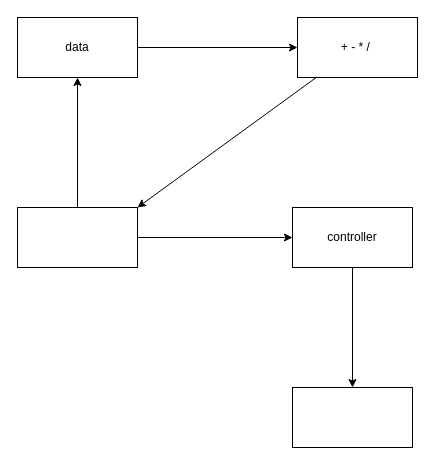
Image size: 435x465. Some labels were removed from this diagram. The shapes that lost their labels are listed below. From the top down, each one's box as (x1, y1, x2, y2) in pixels, then its label:
(16, 206, 138, 268): view
(292, 386, 412, 448): main
